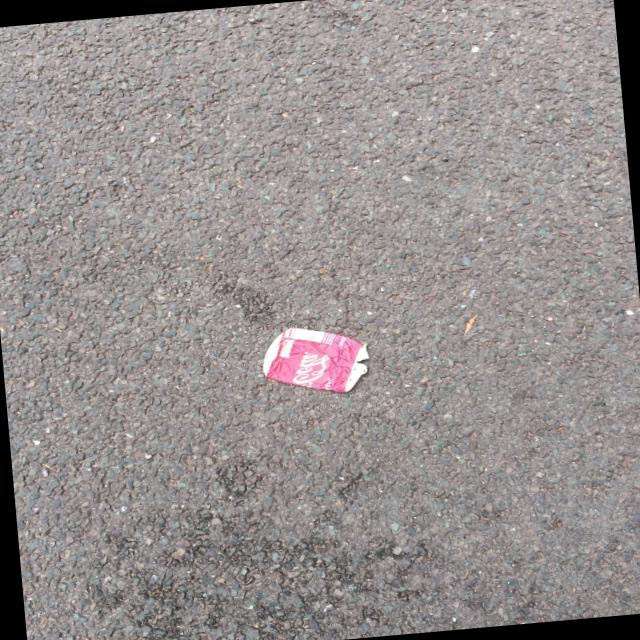less trash: (262, 327, 368, 391)
